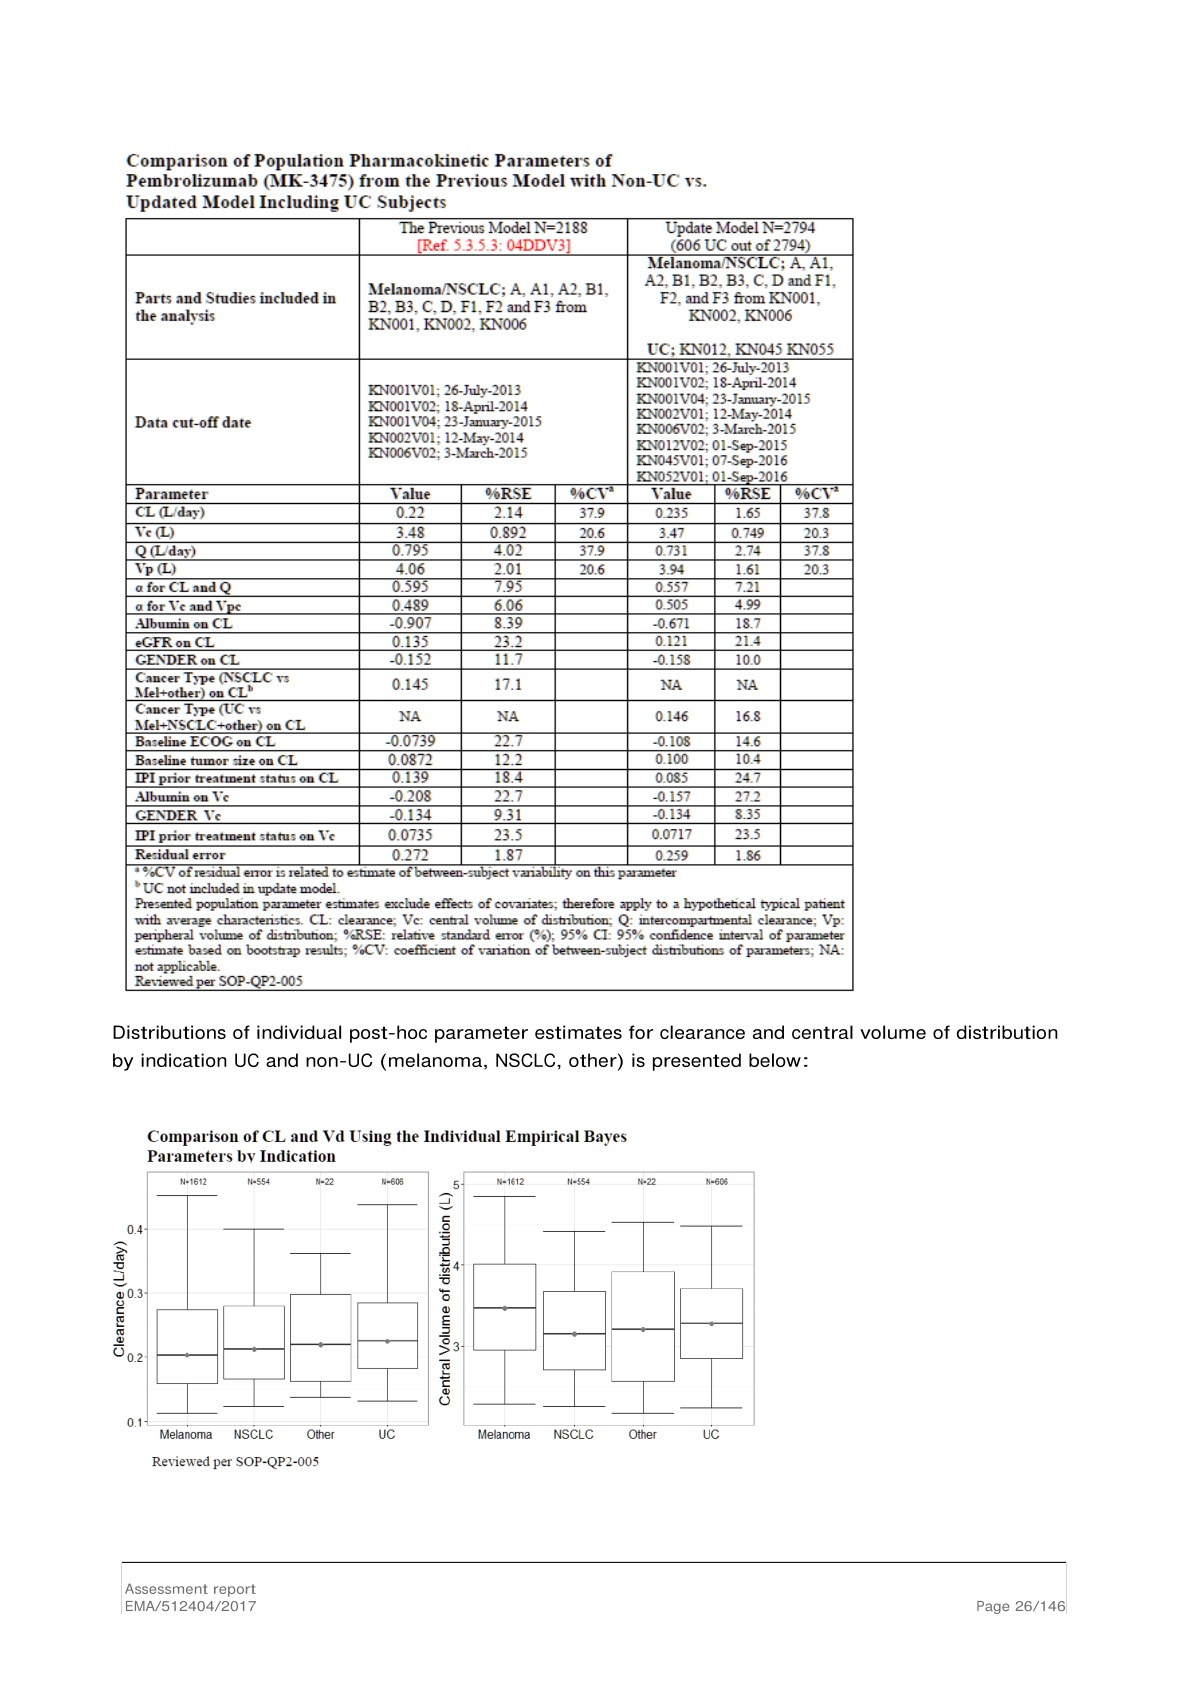merged_cells: (124, 216, 854, 990)
